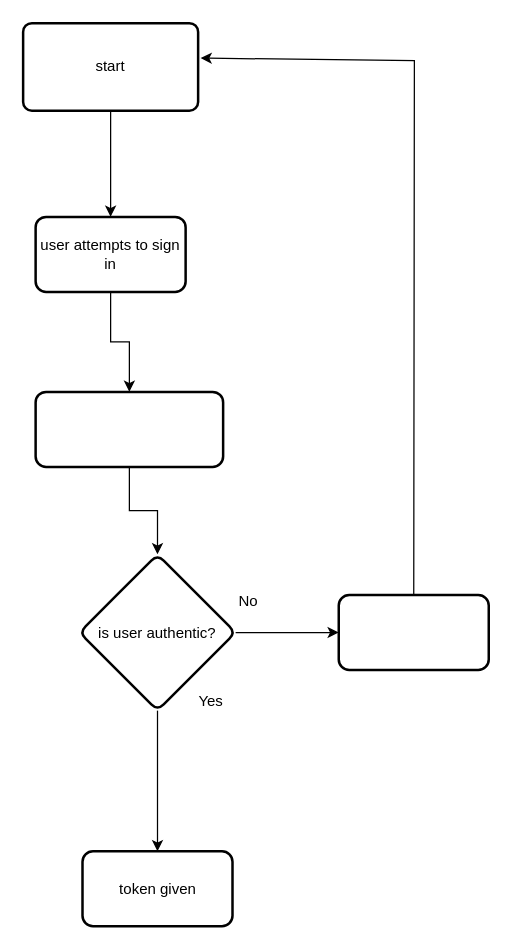
Some shapes in this 511 by 949 pixel diagram are drawn without their labels. The centre of each missing label's shape, as x and y in pixels:
error: point (413, 632)
get authentication triggered in app.jsx through use effect hook: point (129, 429)
